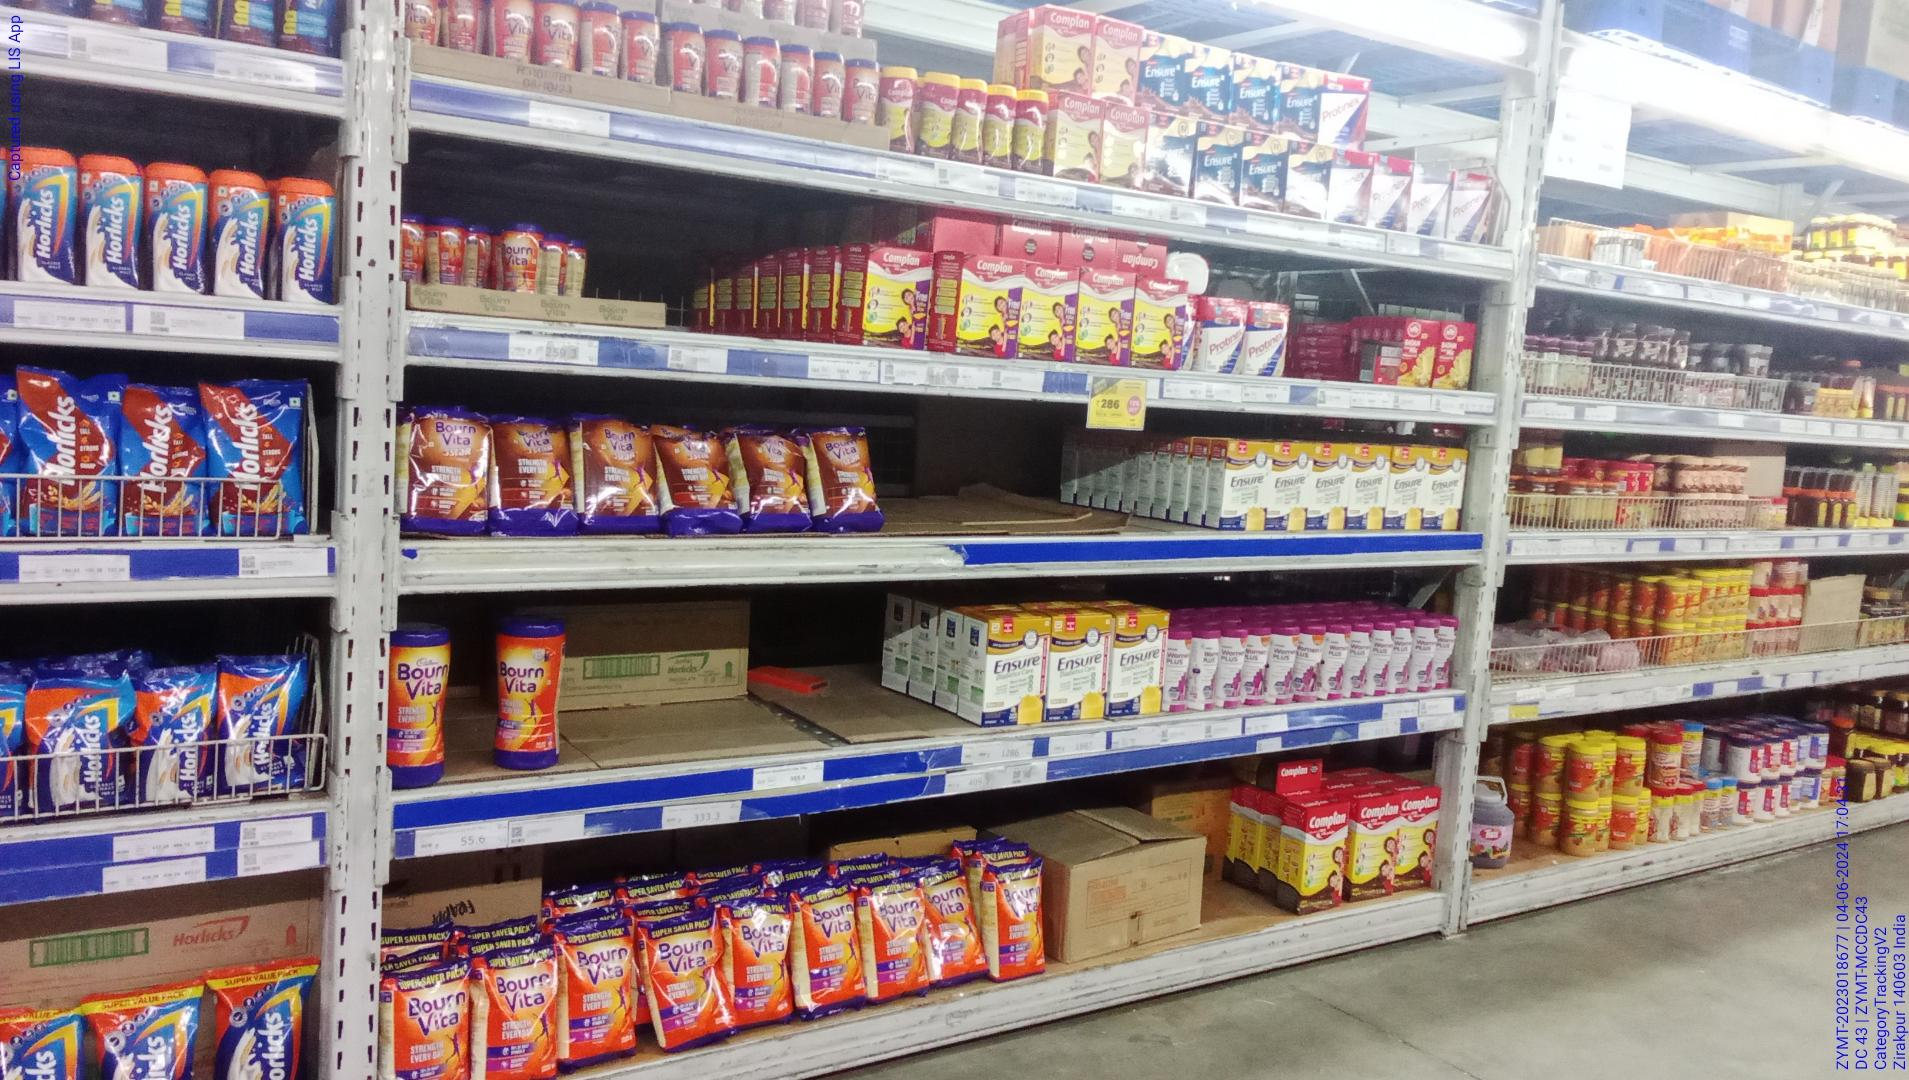BOURN_VITA_FIVE_STAR_MAGIC_500_G_POUCH: (404, 401, 488, 536), (490, 409, 576, 537), (580, 402, 658, 536), (661, 422, 734, 532), (810, 419, 880, 533), (737, 422, 806, 533)
PROTINEX_VANILLA_400_G_JAR: (1198, 296, 1246, 375), (1248, 301, 1288, 379)
